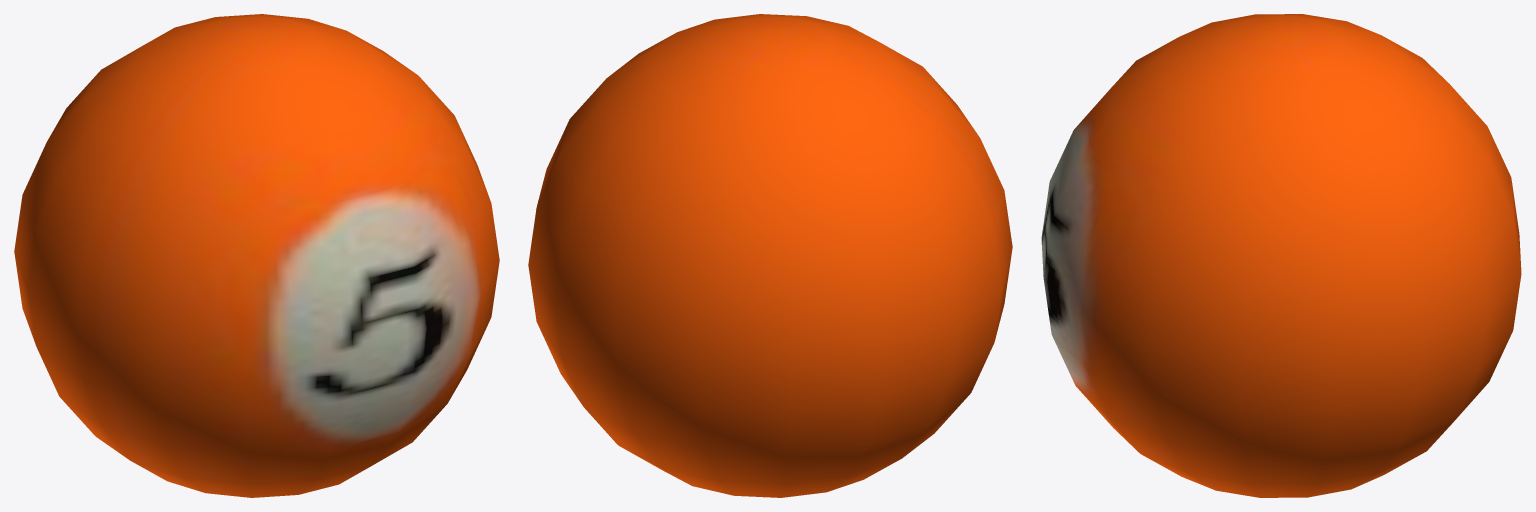
3 renders of one model, left to right at view 1: azimuth 30°, elevation 25°; view 2: azimuth 150°, elevation 25°; view 3: azimuth 270°, elevation 25°, orthographic.
Visible parts, largest first — view 1: bi_a_05; view 2: bi_a_05; view 3: bi_a_05.
Part boxes in pixels (bbox=[...]): bi_a_05: bbox=[14, 14, 499, 497]; bi_a_05: bbox=[528, 14, 1012, 497]; bi_a_05: bbox=[1041, 14, 1521, 497].
Size of the model in its own units: 12.94 by 13.13 by 12.94.
